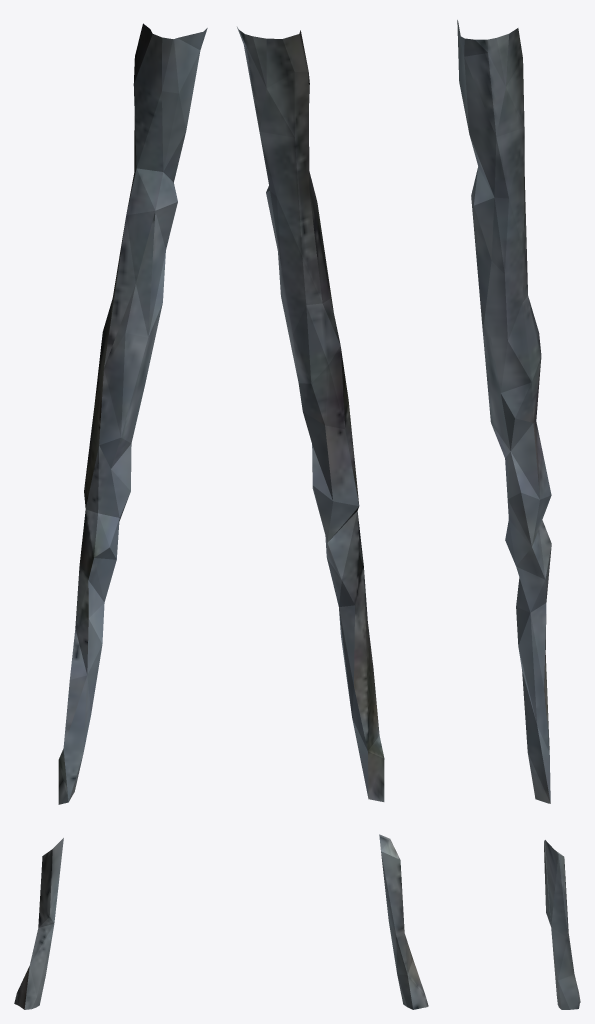
The picture shows the model from 3 angles, left to right: view 1: azimuth 30°, elevation 25°; view 2: azimuth 210°, elevation 25°; view 3: azimuth 270°, elevation 25°; orthographic projection. The views are drawn at different scales.
Bounding box in the file's own units: 0.1264 × 0.8374 × 0.0905.
1 material, 1 textured.
